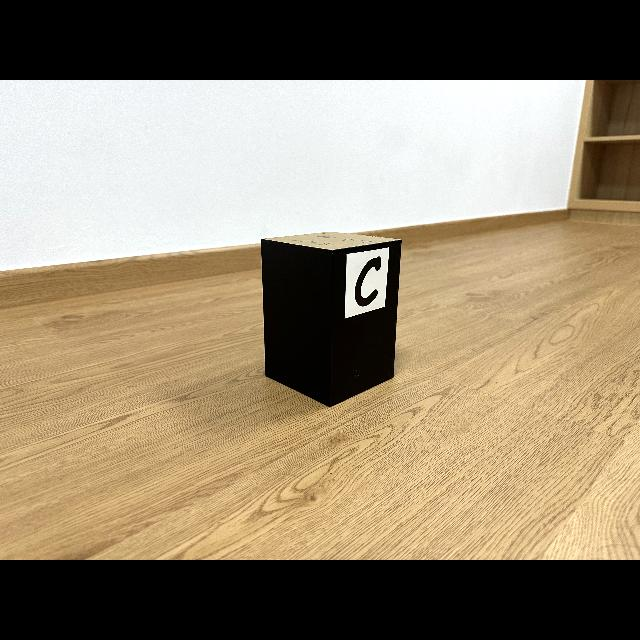C: (355, 256, 381, 306)
